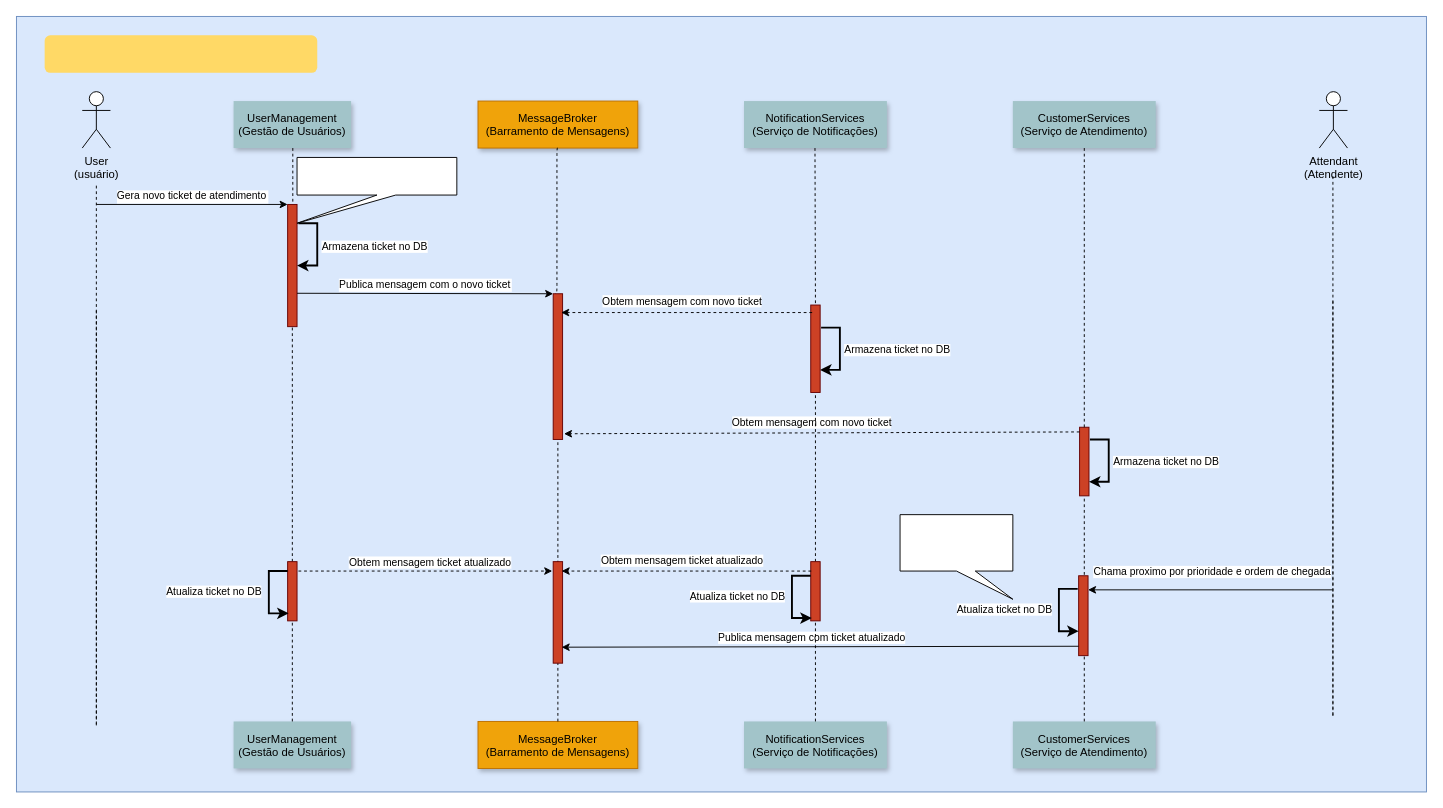
Image size: 1443x808. Some labels were removed from this diagram. Here are the shapes that lost their labels. From the top down, the centre of each, then its label:
At (180,53): "sq customer services (serviço de atendimento)".
At (376,190): "O ticket é gerado com status (Aguardando)".
At (956,556): "O ticket é atualizado com status (Chamado)".
